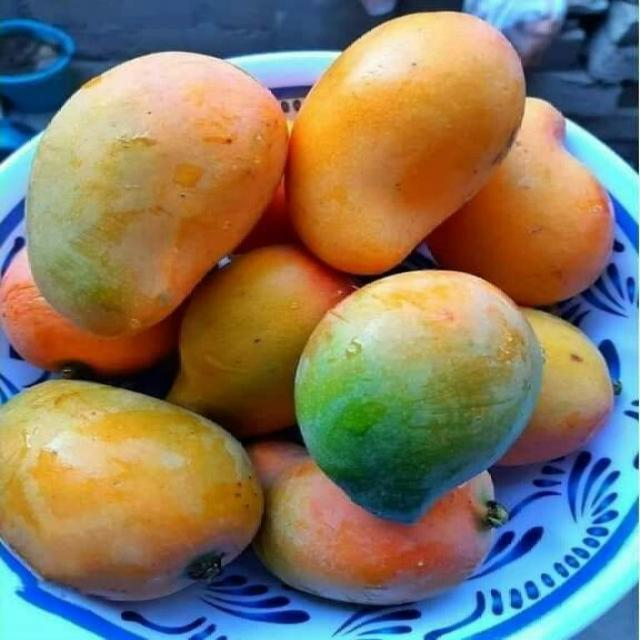mango: (27, 53, 286, 336), (286, 12, 524, 273), (296, 271, 542, 523), (0, 381, 262, 600), (249, 443, 506, 604), (427, 98, 614, 306), (168, 245, 353, 436), (0, 250, 178, 377), (499, 310, 613, 465), (235, 178, 297, 252)
